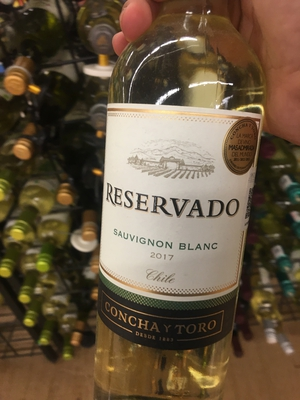reservado sauvignon blanc: (88, 16, 271, 391)
